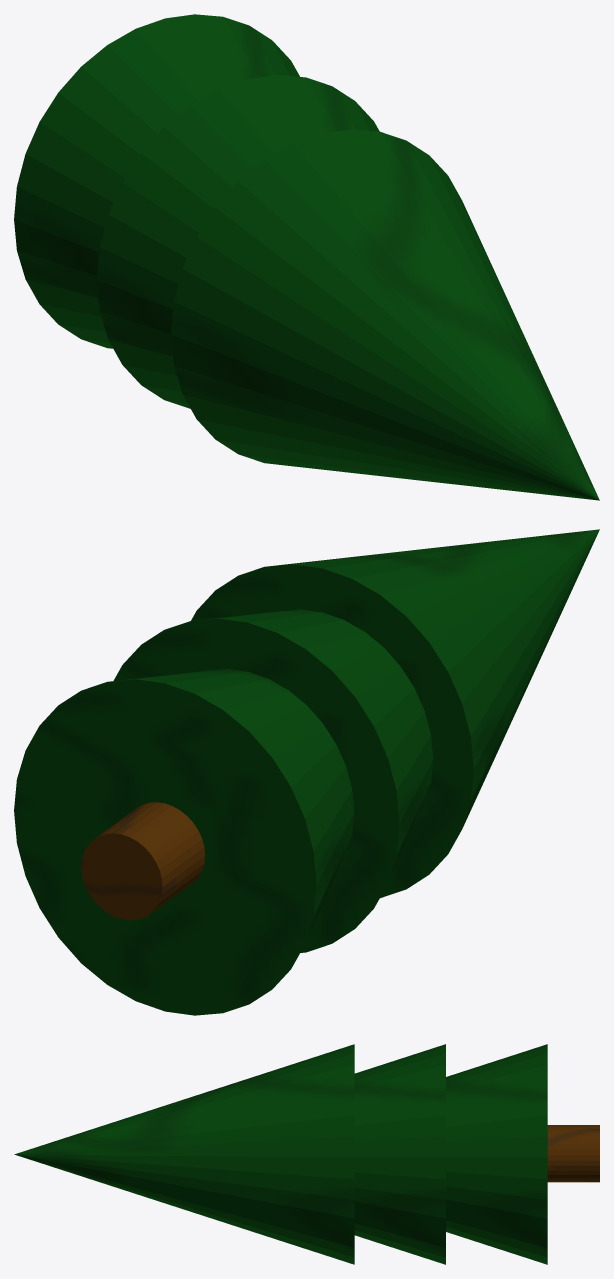
File: ObjectFirTree.obj
The picture shows the model from 3 angles, top to bottom: view 1: azimuth 30°, elevation 25°; view 2: azimuth 150°, elevation 25°; view 3: azimuth 270°, elevation 25°; orthographic projection. The views are drawn at different scales.
Visible parts, largest first — view 1: Cone.002, Cone, Cone.001; view 2: Cone, Cone.002, Cone.001, Cylinder; view 3: Cone.002, Cone, Cone.001, Cylinder.
Part boxes in pixels (x1=…): Cone.002: x1=171, y1=129, x2=599, y2=500; Cone: x1=14, y1=14, x2=299, y2=348; Cone.001: x1=97, y1=75, x2=379, y2=408; Cone: x1=14, y1=669, x2=354, y2=1015; Cone.002: x1=191, y1=529, x2=599, y2=898; Cone.001: x1=113, y1=609, x2=433, y2=952; Cylinder: x1=81, y1=802, x2=205, y2=920; Cone.002: x1=14, y1=1044, x2=354, y2=1264; Cone: x1=446, y1=1044, x2=547, y2=1264; Cone.001: x1=354, y1=1044, x2=445, y2=1264; Cylinder: x1=547, y1=1125, x2=599, y2=1182.
Bounding box in the file's own units: 3.61 × 3.74 × 9.85.
